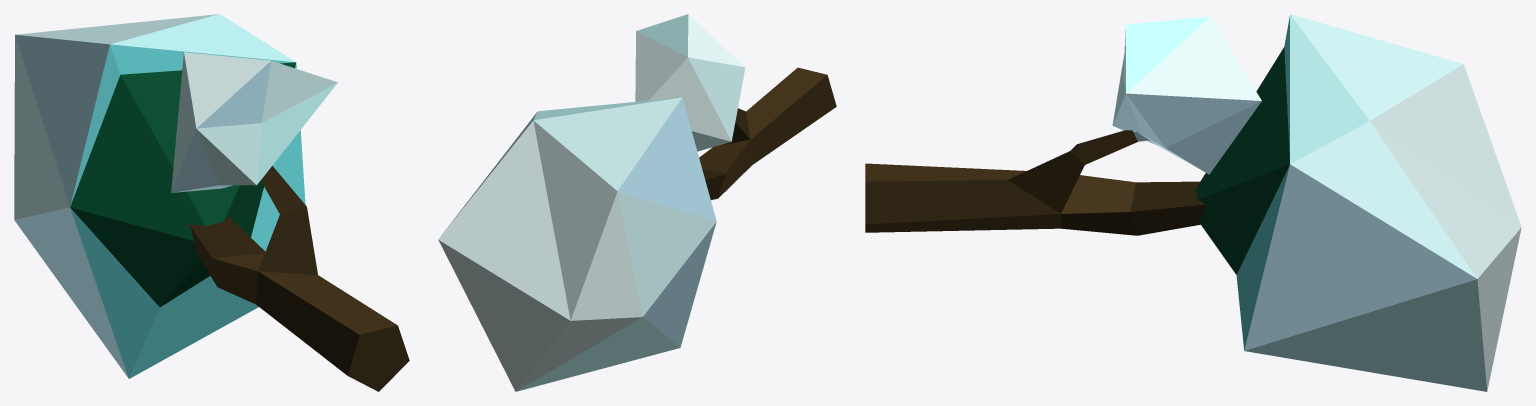
The model's file is winter_tree_3.fbx.
The picture shows the model from 3 angles, left to right: view 1: azimuth 30°, elevation 25°; view 2: azimuth 150°, elevation 25°; view 3: azimuth 270°, elevation 25°; orthographic projection. The views are drawn at different scales.
Parts seen in each view (by area): view 1: winter_tree_3; view 2: winter_tree_3; view 3: winter_tree_3.
Part boxes in pixels (<box>): winter_tree_3: <box>14,14,409,391</box>; winter_tree_3: <box>438,14,836,391</box>; winter_tree_3: <box>865,14,1521,391</box>.
Bounding box in the file's own units: 52.56 × 69.43 × 118.
